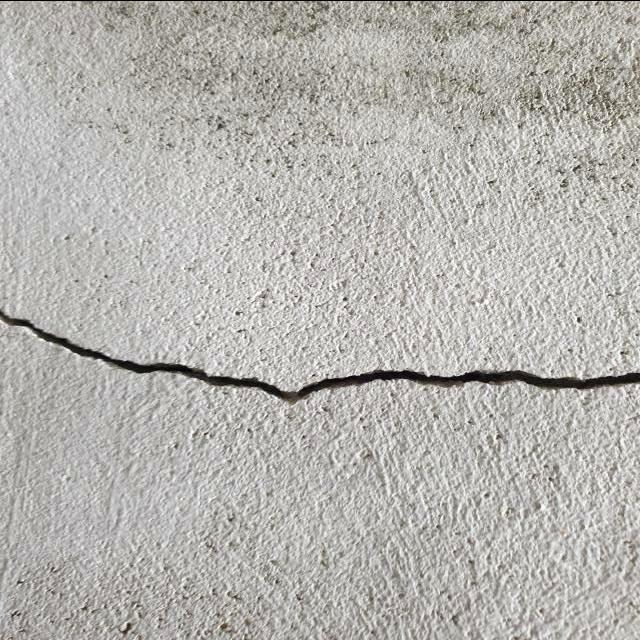SurfaceCrack: (1, 265, 640, 449)
